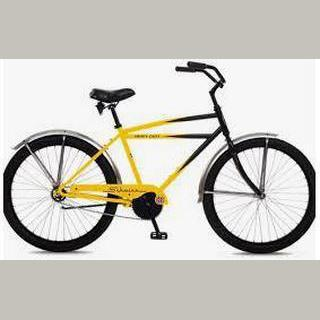Bike: (4, 59, 316, 253)
